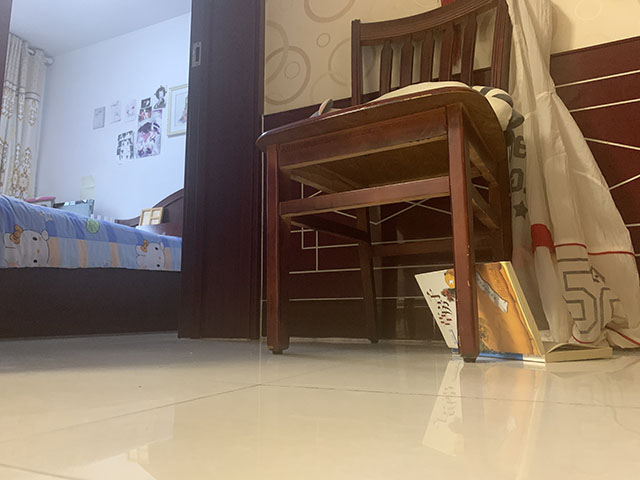bed: (1, 187, 187, 339)
book: (414, 257, 614, 365)
stool: (256, 1, 515, 363)
